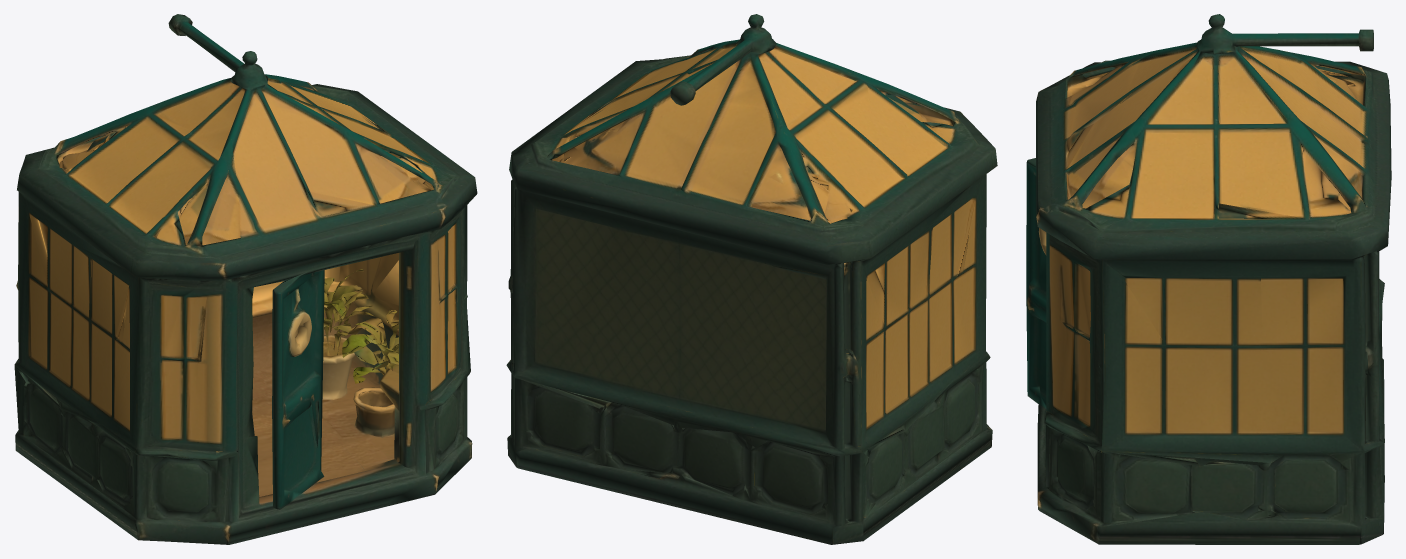
File: greenhouse.glb
The picture shows the model from 3 angles, left to right: view 1: azimuth 30°, elevation 25°; view 2: azimuth 150°, elevation 25°; view 3: azimuth 270°, elevation 25°; orthographic projection. The views are drawn at different scales.
Visible parts, largest first — view 1: Mesh_0; view 2: Mesh_0; view 3: Mesh_0.
Boxes of the visible parts, x1=… form: Mesh_0: x1=14, y1=14, x2=477, y2=544; Mesh_0: x1=506, y1=14, x2=997, y2=544; Mesh_0: x1=1026, y1=14, x2=1391, y2=544.
Bounding box in the file's own units: 1.66 × 1.9 × 1.42.
1 material, 1 textured.
